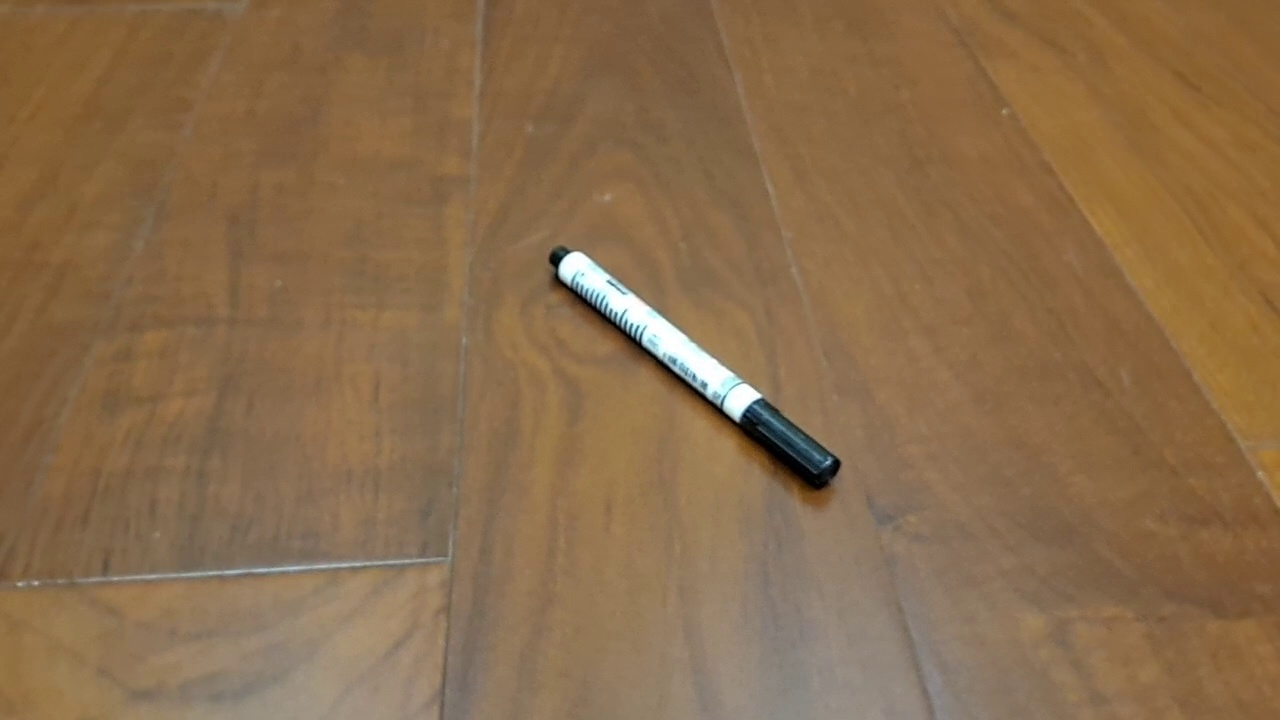pen: (547, 244, 842, 492)
